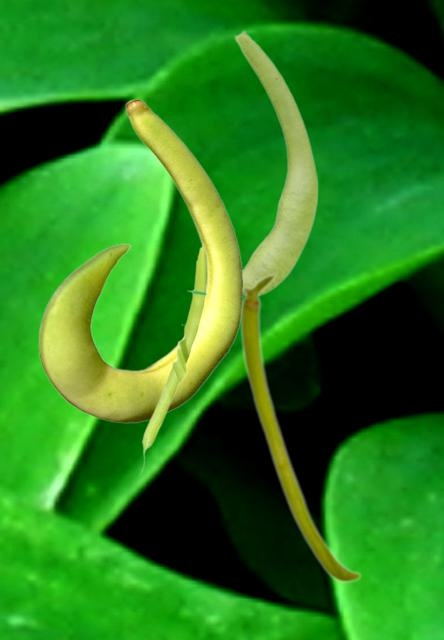french_bean: (38, 98, 243, 422), (239, 272, 361, 583), (192, 29, 318, 295), (139, 241, 208, 475)
